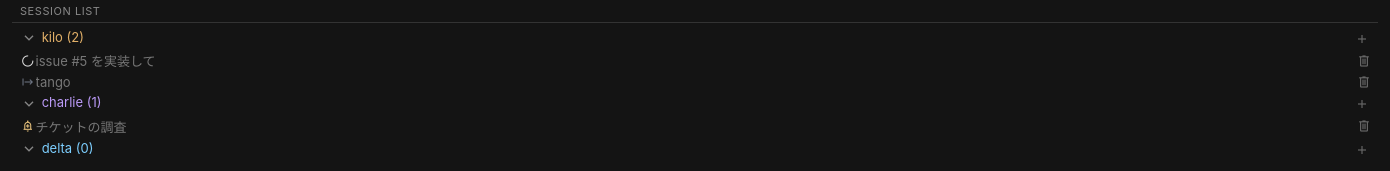
Test: CockpitTerminalListView: right-click menu › closes the menu after choosing a menu item
Right-click the text "charlie (1)" at (62, 102), box [42,94,102,110]
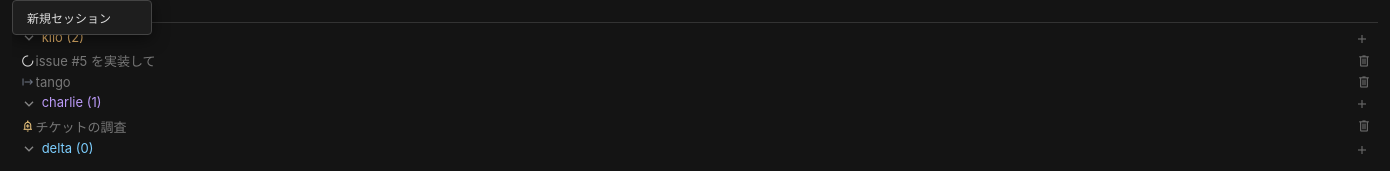
Click the menu item "新規セッション" at (82, 18), box [17,5,147,30]
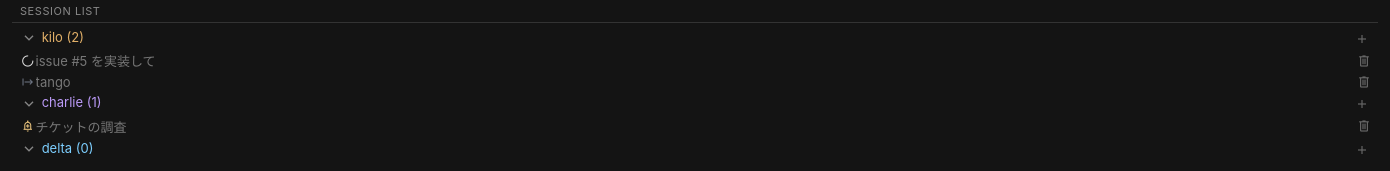
Check: the menu item is gone
